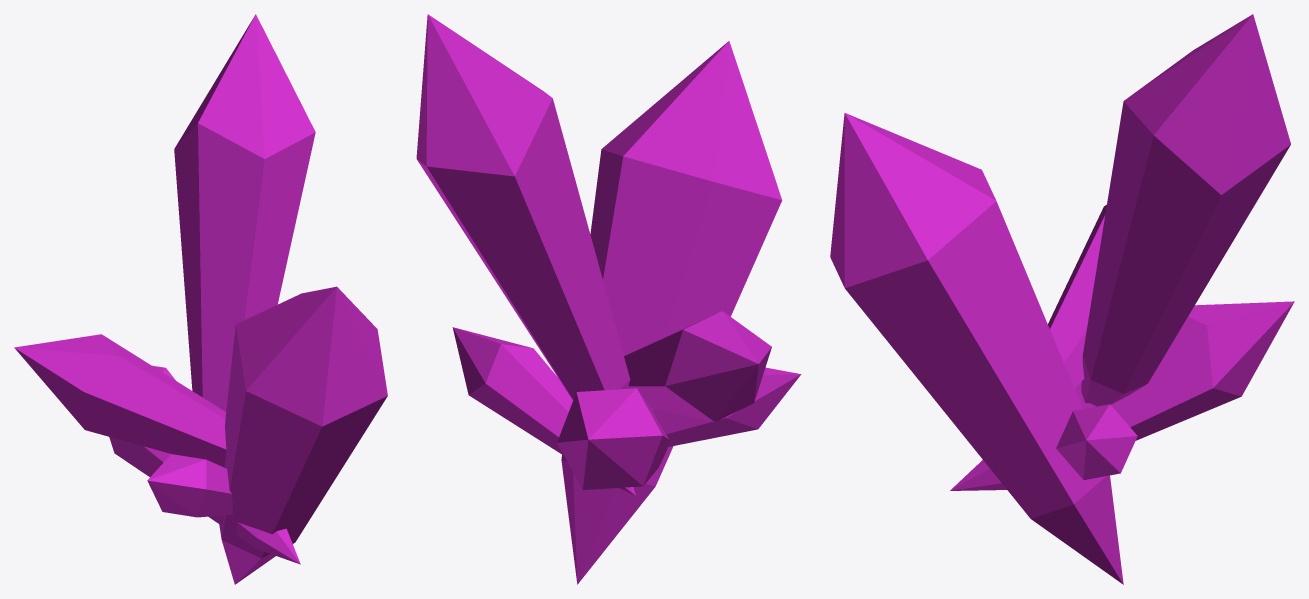
File: Gem.fbx
3 renders of one model, left to right at view 1: azimuth 30°, elevation 25°; view 2: azimuth 150°, elevation 25°; view 3: azimuth 270°, elevation 25°, orthographic. The views are drawn at different scales.
Parts seen in each view (by area): view 1: Cylinder.005; view 2: Cylinder.005; view 3: Cylinder.005.
Boxes of the visible parts, left/top/right/bottom form: Cylinder.005: left=14, top=14, right=387, bottom=584; Cylinder.005: left=416, top=14, right=801, bottom=584; Cylinder.005: left=830, top=14, right=1294, bottom=584.
Size of the model in its own units: 181 by 285 by 195.
